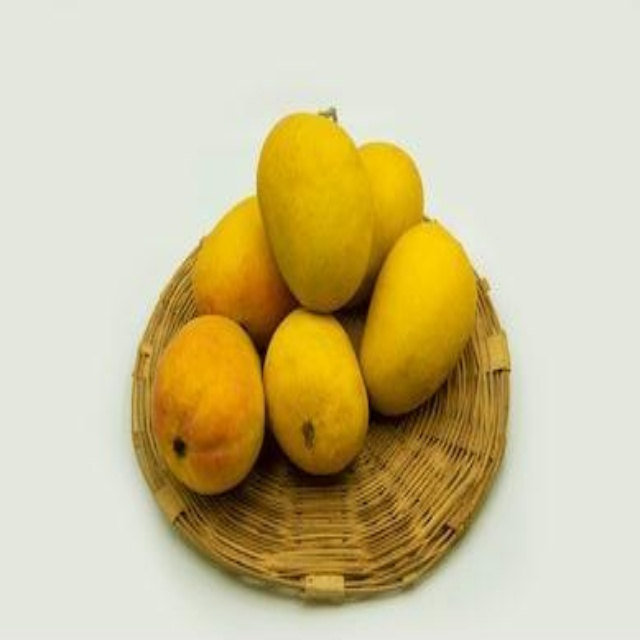mango: (255, 111, 370, 318), (363, 225, 480, 418), (153, 314, 262, 495), (267, 309, 373, 473), (196, 191, 288, 331)
